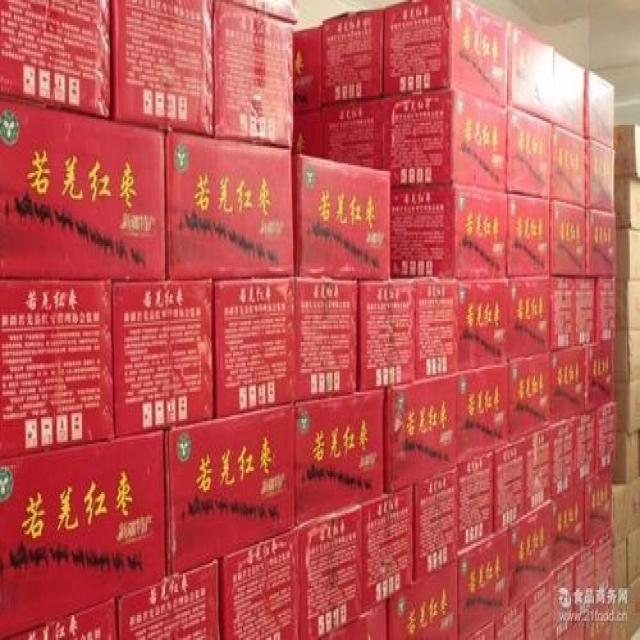box: (0, 431, 168, 640), (0, 100, 166, 281), (166, 404, 294, 573), (0, 279, 116, 457), (166, 133, 294, 281), (113, 279, 214, 434), (110, 0, 214, 136), (384, 0, 509, 108), (380, 90, 508, 190), (0, 0, 109, 117), (293, 390, 384, 529), (211, 2, 294, 150), (293, 156, 389, 279), (389, 185, 508, 277), (214, 281, 294, 415), (218, 529, 300, 638), (116, 557, 220, 638), (387, 375, 456, 496), (298, 507, 360, 638), (294, 279, 358, 402), (358, 486, 415, 615), (357, 279, 415, 388), (320, 10, 383, 102), (457, 527, 509, 638), (387, 561, 460, 640), (456, 361, 511, 465), (457, 275, 512, 373), (413, 463, 458, 582), (508, 498, 552, 611), (1, 600, 118, 640), (415, 279, 461, 377), (509, 21, 553, 123), (324, 98, 384, 169), (507, 350, 552, 444), (508, 106, 553, 200), (456, 450, 492, 552), (508, 196, 552, 277), (508, 277, 550, 361), (301, 600, 389, 640), (550, 277, 596, 352), (553, 482, 586, 577), (552, 46, 586, 136), (493, 438, 526, 530), (549, 127, 586, 209), (550, 200, 586, 277), (552, 346, 586, 427), (293, 21, 321, 111), (585, 67, 614, 150), (585, 465, 614, 546), (585, 138, 616, 213), (550, 417, 579, 496), (527, 431, 554, 513), (588, 206, 618, 279), (585, 334, 614, 409), (524, 575, 557, 640), (552, 555, 576, 638), (613, 477, 640, 546), (575, 411, 599, 482), (227, 0, 298, 23), (596, 527, 616, 607), (575, 542, 596, 615), (294, 108, 324, 158), (596, 404, 617, 475), (614, 123, 639, 179), (614, 279, 640, 332), (613, 331, 640, 382), (616, 175, 640, 231), (614, 429, 639, 482), (614, 382, 640, 432), (617, 227, 640, 279), (494, 602, 525, 640), (596, 279, 614, 342), (613, 538, 627, 600), (625, 582, 640, 638), (626, 532, 640, 586), (462, 623, 494, 640)
